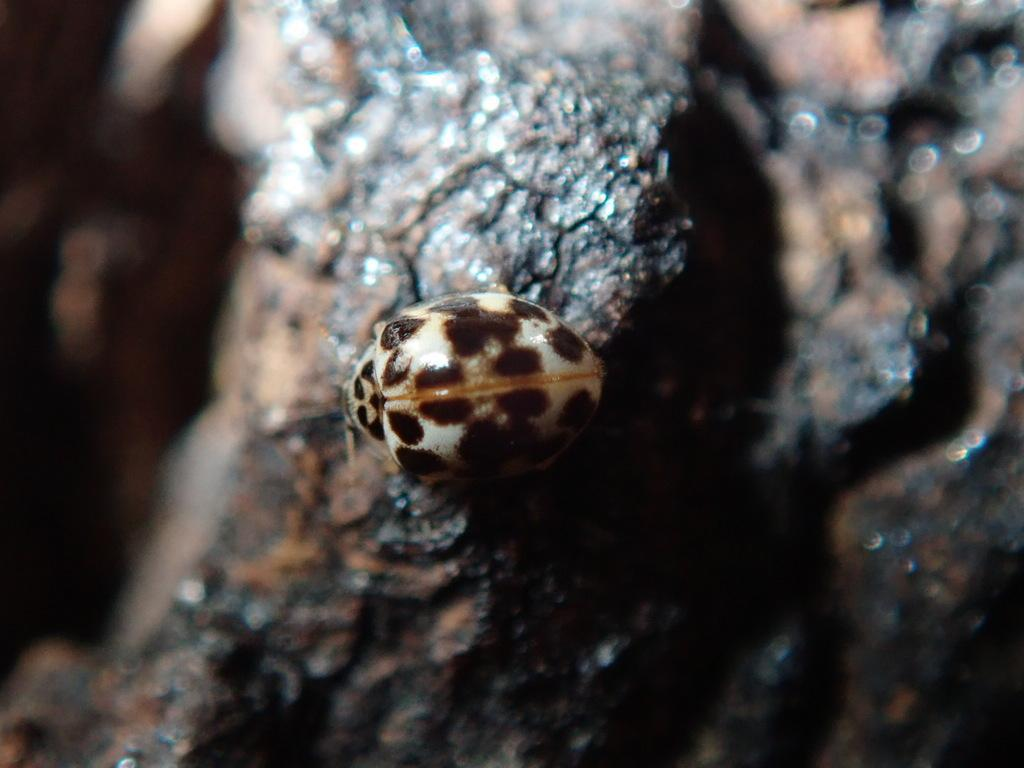ladybug: (331, 289, 611, 491)
